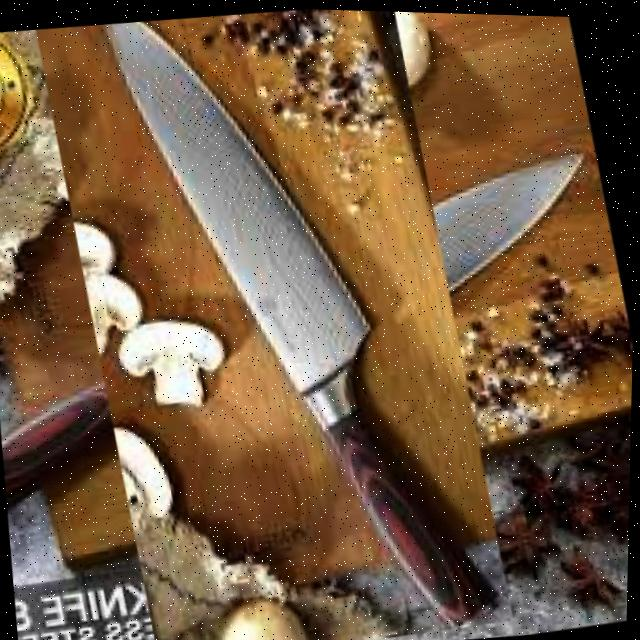knife: (83, 2, 507, 640), (0, 132, 620, 538)
